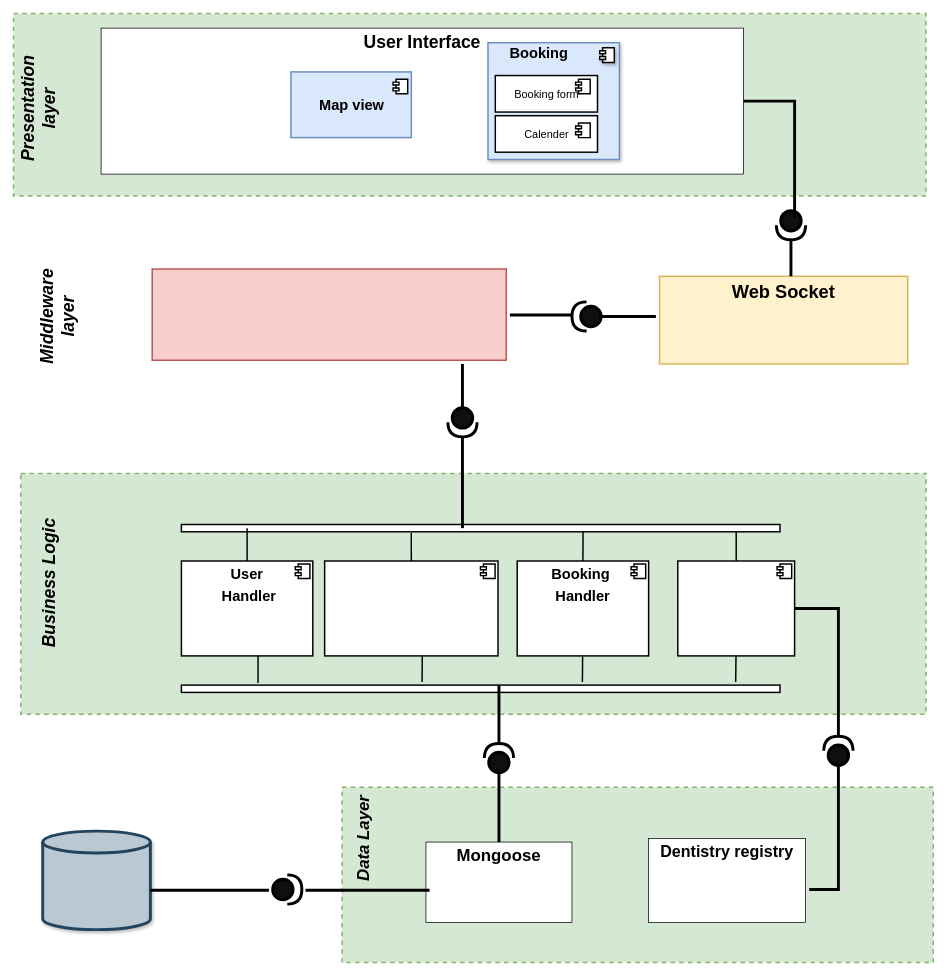
The diagram is 946 pixels wide and 975 high, and some of its shapes have lost their labels. The shapes that lost their labels are listed below. From the top down, each one's centre as x and y in pixels, then its label:
At (329,314): "MQTT Broker".
At (411,608): "Time slot Generator and Availability Checker".
At (736,608): "Dentist Handler".
At (97,881): "MongoDB".
